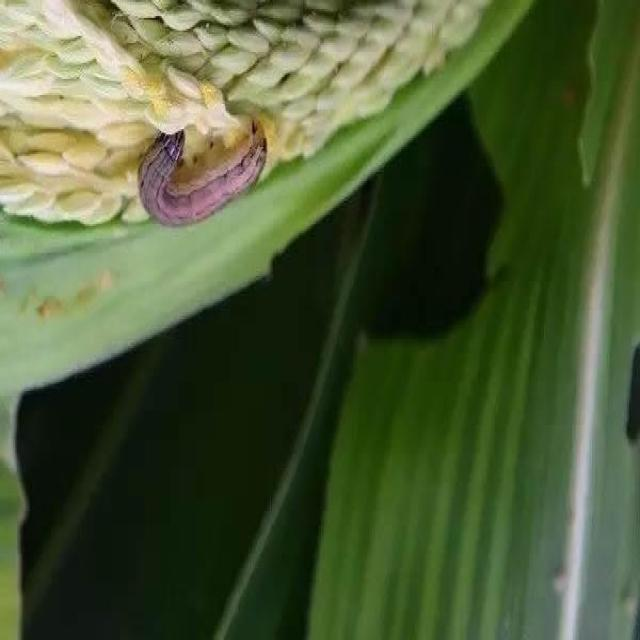army worm: (134, 121, 273, 241)
